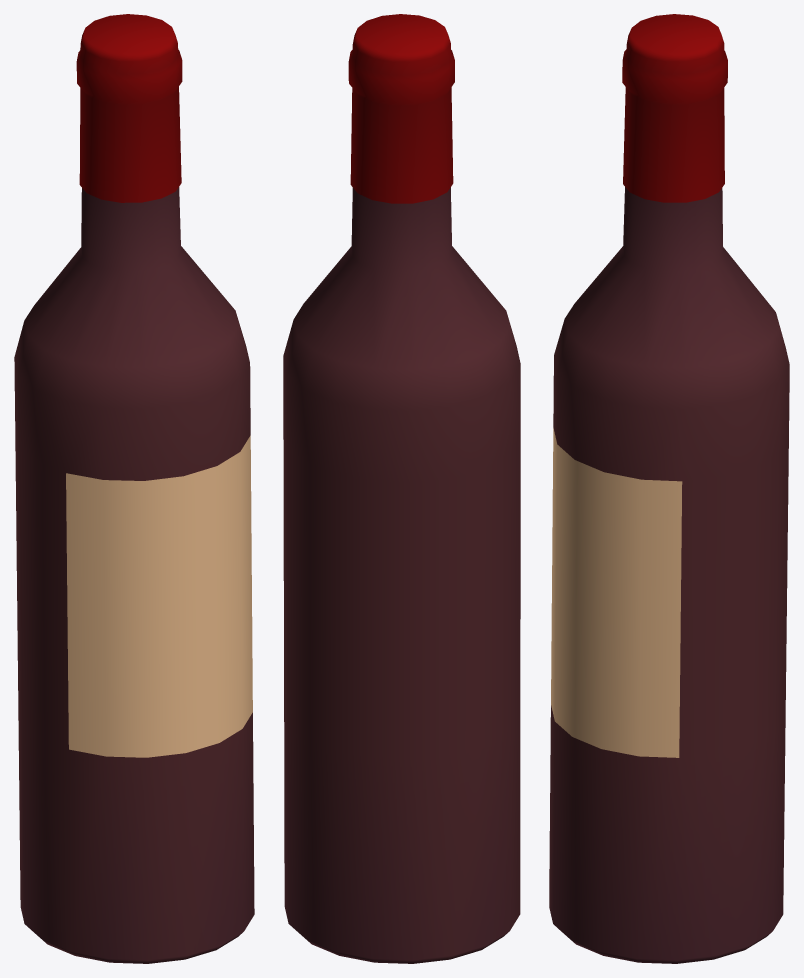
The picture shows the model from 3 angles, left to right: view 1: azimuth 30°, elevation 25°; view 2: azimuth 150°, elevation 25°; view 3: azimuth 270°, elevation 25°; orthographic projection.
Visible parts, largest first — view 1: color.005; view 2: color.005; view 3: color.005.
Boxes of the visible parts, <box> form: color.005: <box>14,14,254,963</box>; color.005: <box>283,14,520,963</box>; color.005: <box>549,14,789,963</box>.
Bounding box in the file's own units: 0.122 × 0.5 × 0.1236.
